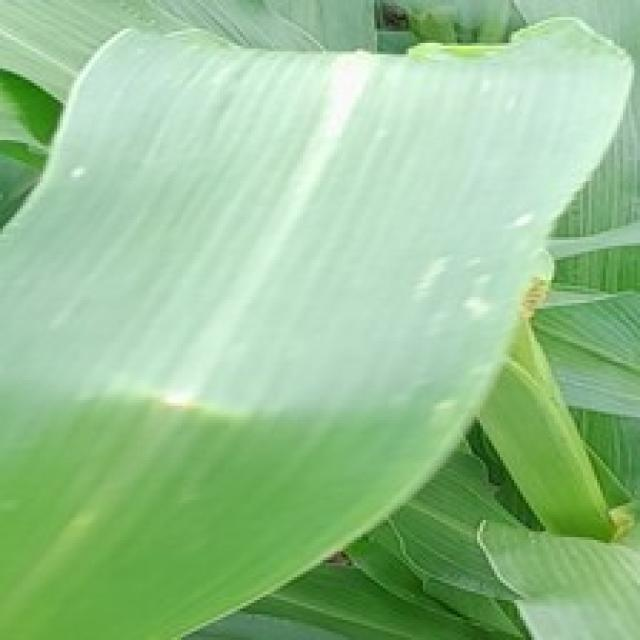Corn: (0, 3, 637, 637), (474, 514, 637, 637)
